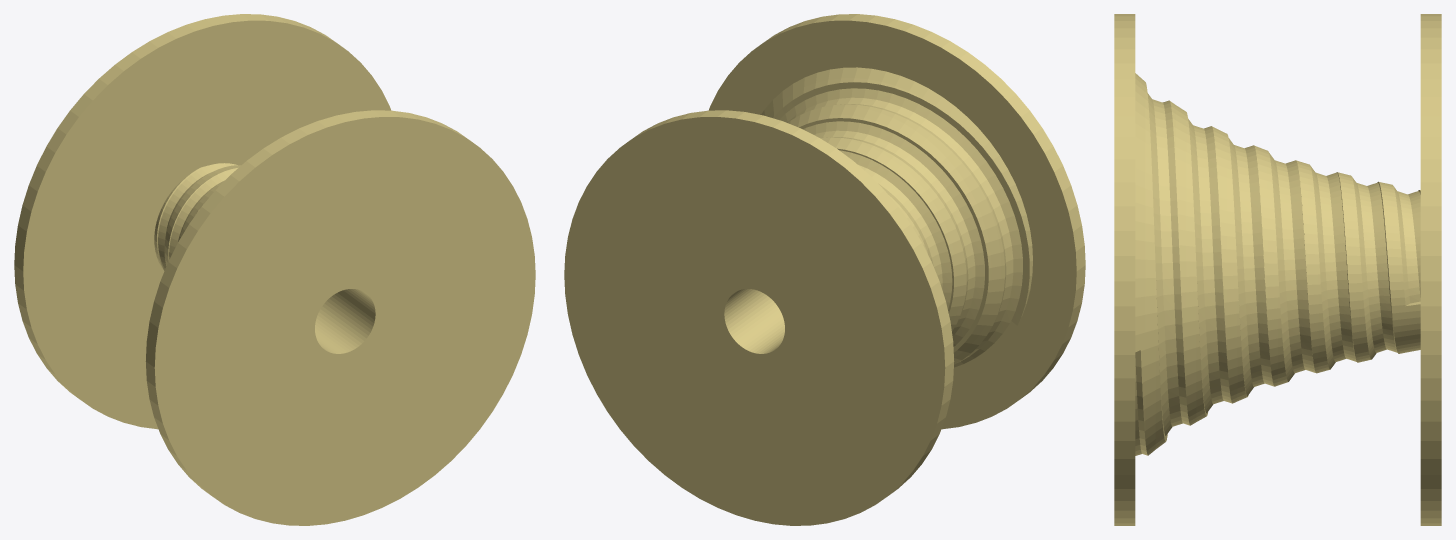
Rendered from fusee_demo.glb.
3 renders of one model, left to right at view 1: azimuth 30°, elevation 25°; view 2: azimuth 150°, elevation 25°; view 3: azimuth 270°, elevation 25°, orthographic. The views are drawn at different scales.
Visible parts, largest first — view 1: fusee_cone; view 2: fusee_cone; view 3: fusee_cone.
Boxes of the visible parts, x1=… form: fusee_cone: x1=14, y1=14, x2=535, y2=525; fusee_cone: x1=564, y1=14, x2=1085, y2=525; fusee_cone: x1=1114, y1=14, x2=1441, y2=525.
Bounding box in the file's own units: 39.25 × 39.25 × 25.08.
